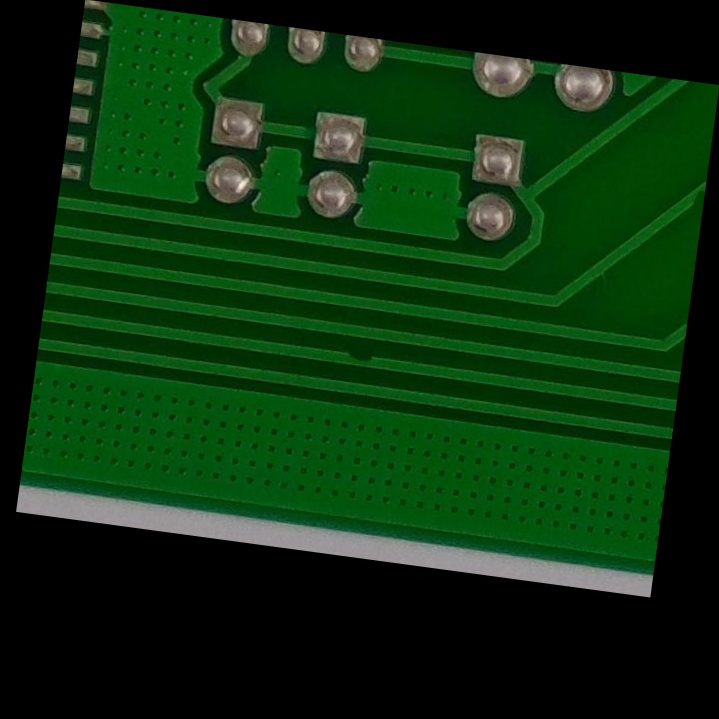mouse_bite: (337, 337, 383, 383)
